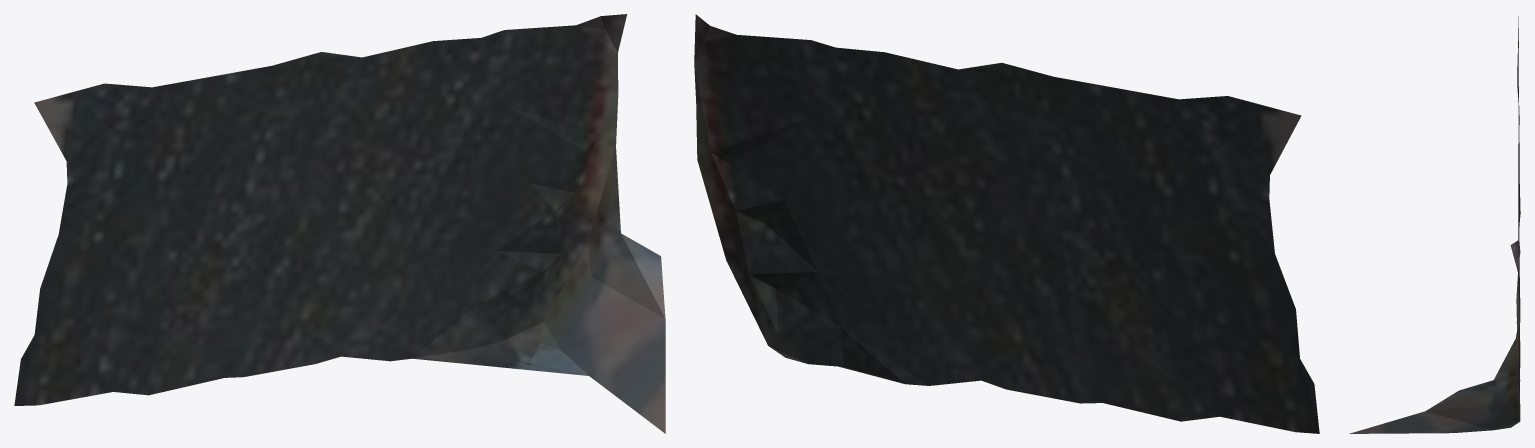
The model's file is meshes_1-dynamic - BLK2GO-3630355-Scan 080 29.obj.
The picture shows the model from 3 angles, left to right: view 1: azimuth 30°, elevation 25°; view 2: azimuth 150°, elevation 25°; view 3: azimuth 270°, elevation 25°; orthographic projection. The views are drawn at different scales.
Parts seen in each view (by area): view 1: 1-dynamic_-_BLK2GO-3630355-Scan_080_29_0; view 2: 1-dynamic_-_BLK2GO-3630355-Scan_080_29_0; view 3: 1-dynamic_-_BLK2GO-3630355-Scan_080_29_0.
Boxes of the visible parts, x1,y1,x2,y2 form: 1-dynamic_-_BLK2GO-3630355-Scan_080_29_0: (14,14,665,433); 1-dynamic_-_BLK2GO-3630355-Scan_080_29_0: (694,14,1319,433); 1-dynamic_-_BLK2GO-3630355-Scan_080_29_0: (1349,16,1520,433).
Bounding box in the file's own units: 1.29 × 0.7454 × 0.4627.
1 material, 1 textured.
